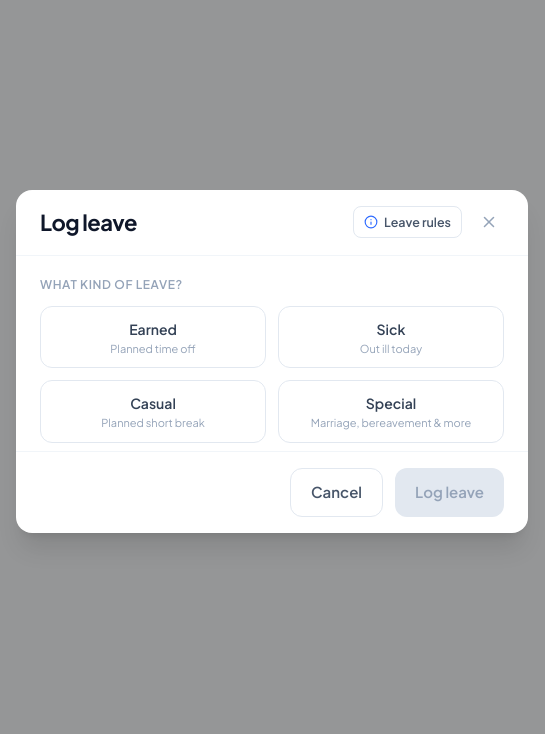
Sick › gives admins a real date picker, since the backend exempts them
Step 1. Click the button "Sick Out ill today" → (391, 337), box [278,306,504,368]
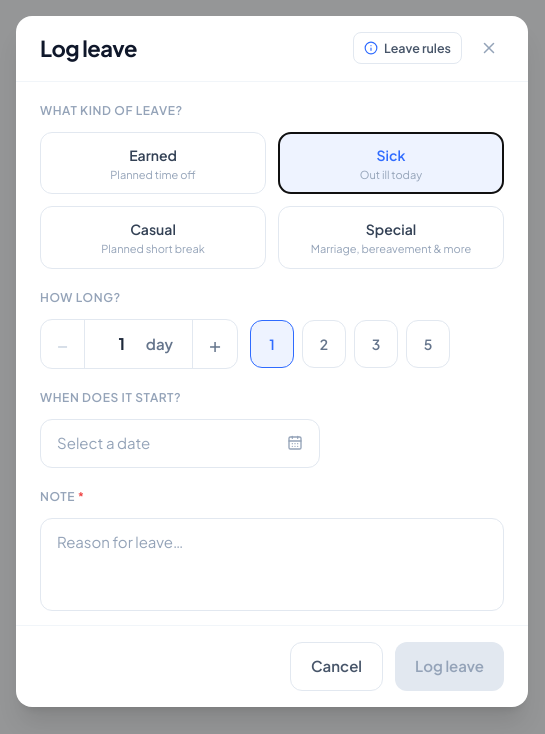
Now the text "Select a date" is shown, box [57,432,150,454]
